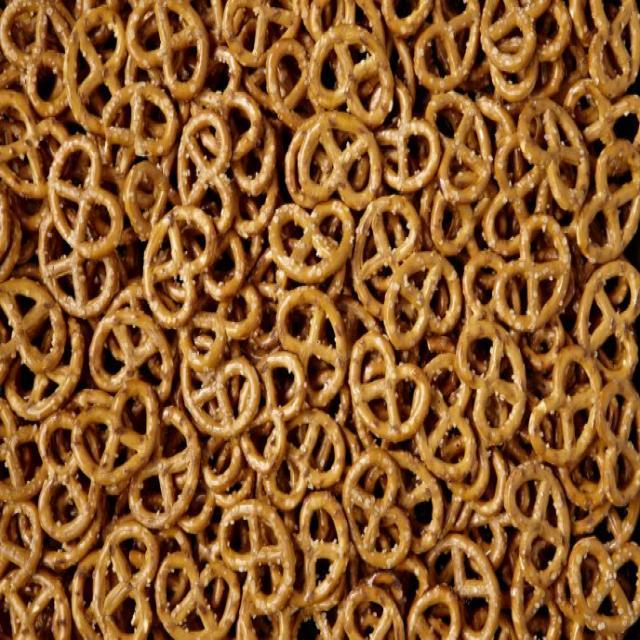Salatini: (12, 9, 634, 635)
